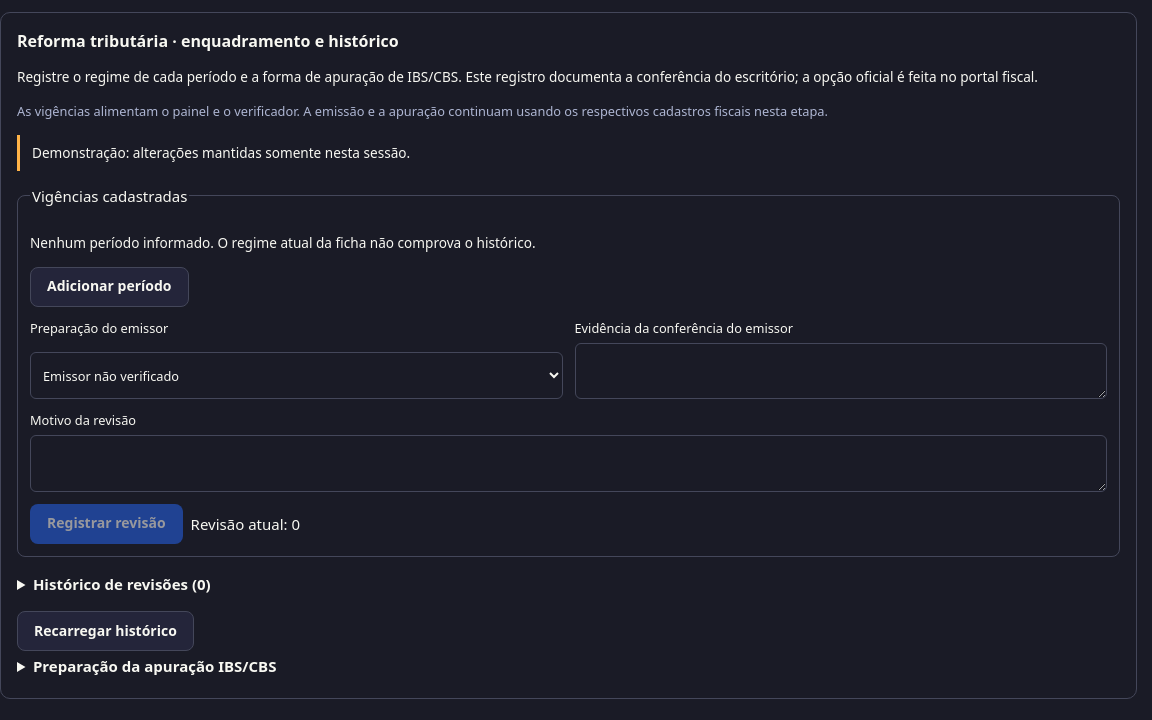
Scenario: erro de gravação conserva o rascunho e não anuncia sucesso
Type "Revisão preservada" into the text box labelled "Motivo da revisão" at [568, 464], box [30, 435, 1107, 492]
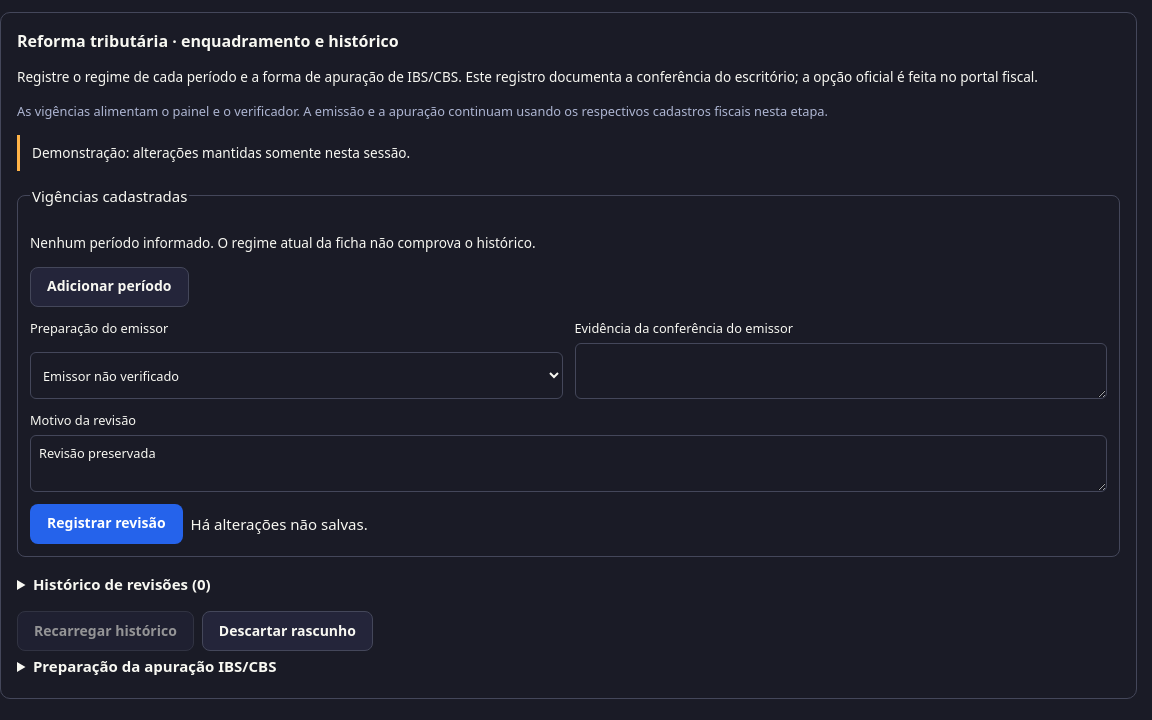
Click the button "Registrar revisão" at [106, 524], box [30, 504, 183, 544]
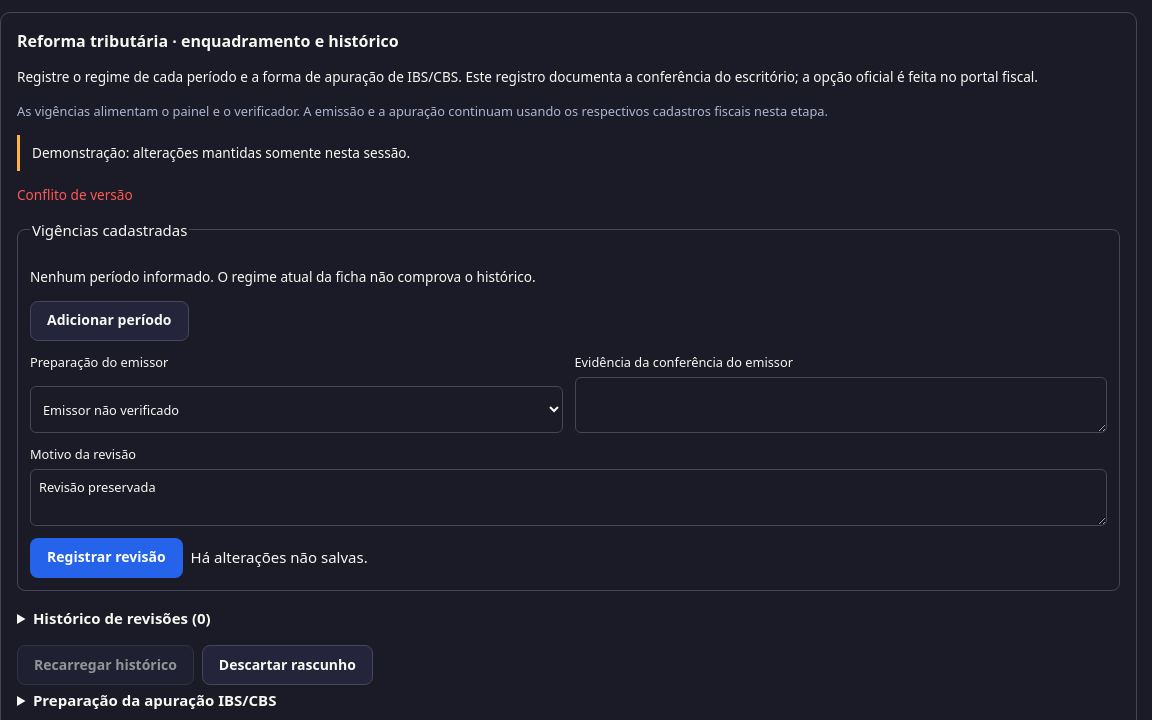
Expected: the message "Conflito de versão" is shown, [17, 184, 133, 204]
